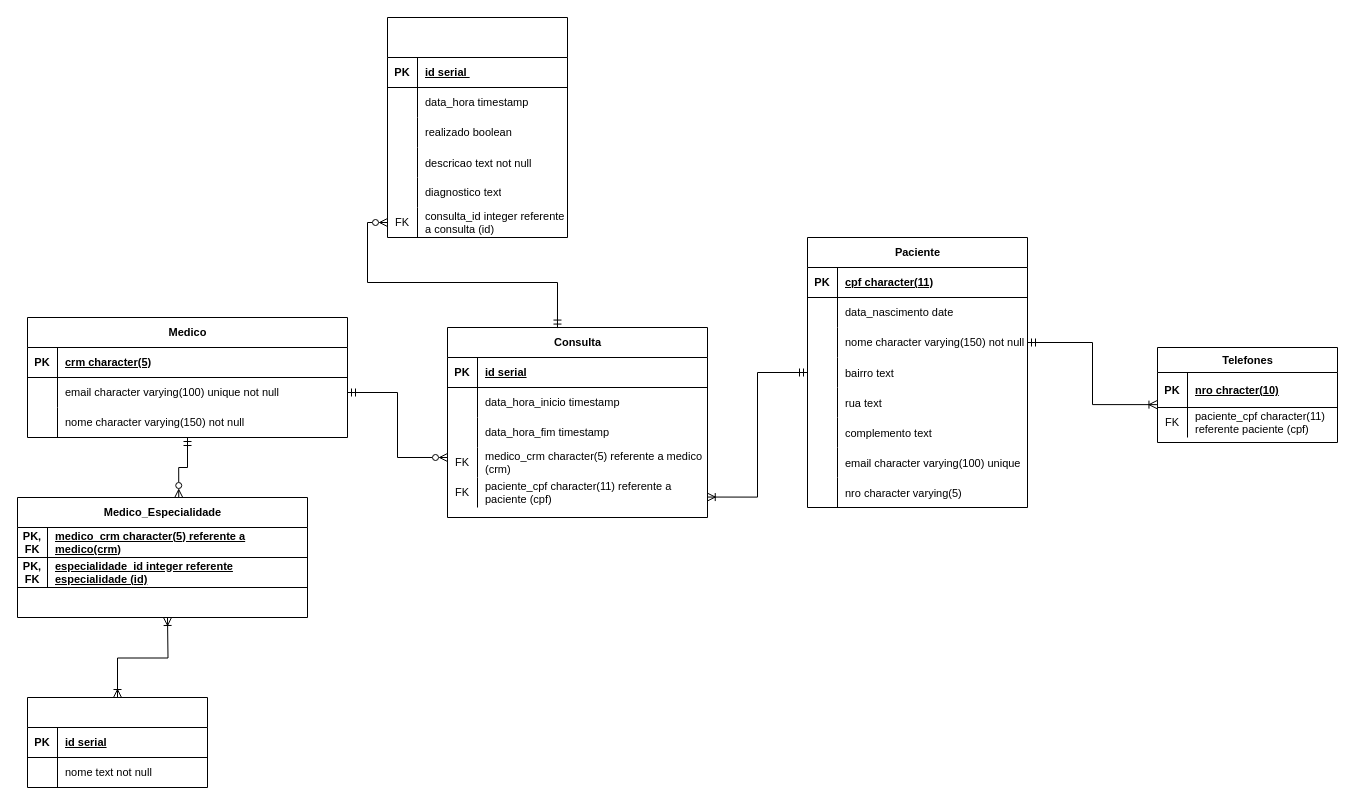
Some shapes in this 1355 by 805 pixel diagram are drawn without their labels. Here are the shapes that lost their labels. From the top down, the box of each, then its label:
(386, 16, 568, 238): Exames
(26, 696, 208, 788): Especialidade
